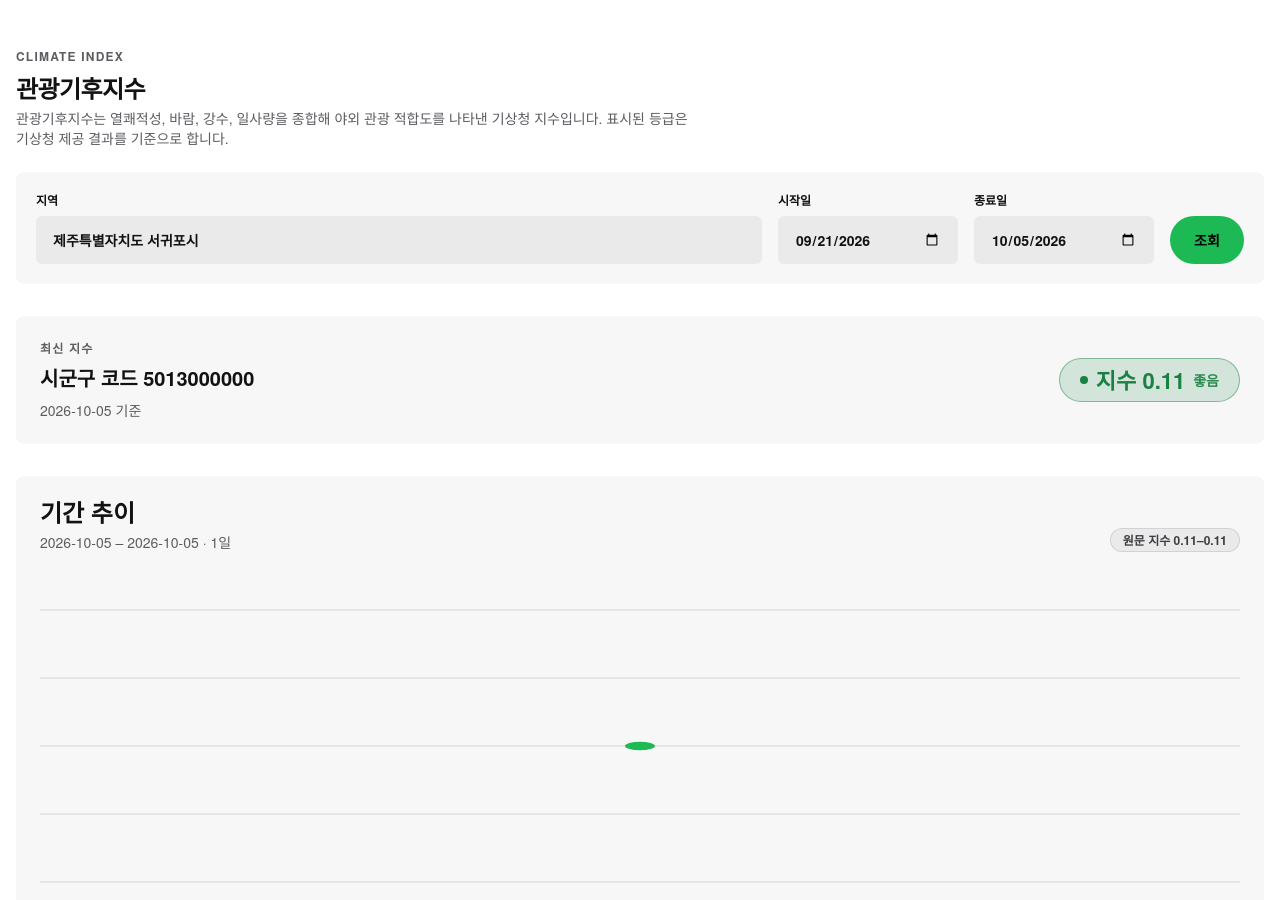
Test: ClimatePage › 잘못된 지역 코드는 API 요청 전에 안내한다
The image size is (1280, 900).
Replace the text in the dropdown labelled "지역" with "123" at (399, 240), box [36,216,762,264]
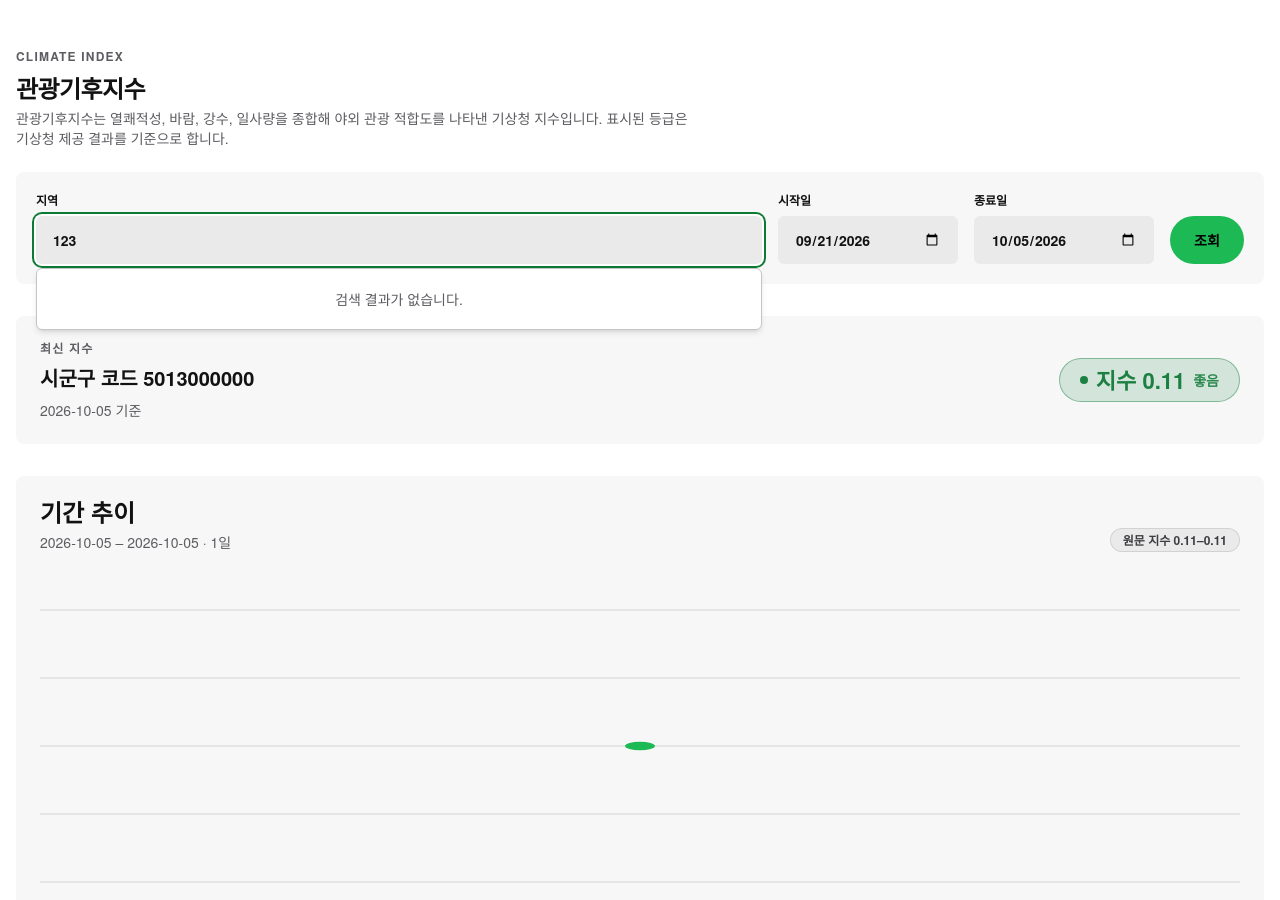
Click the button "조회".
click(1207, 240)  # box [1170,216,1244,264]
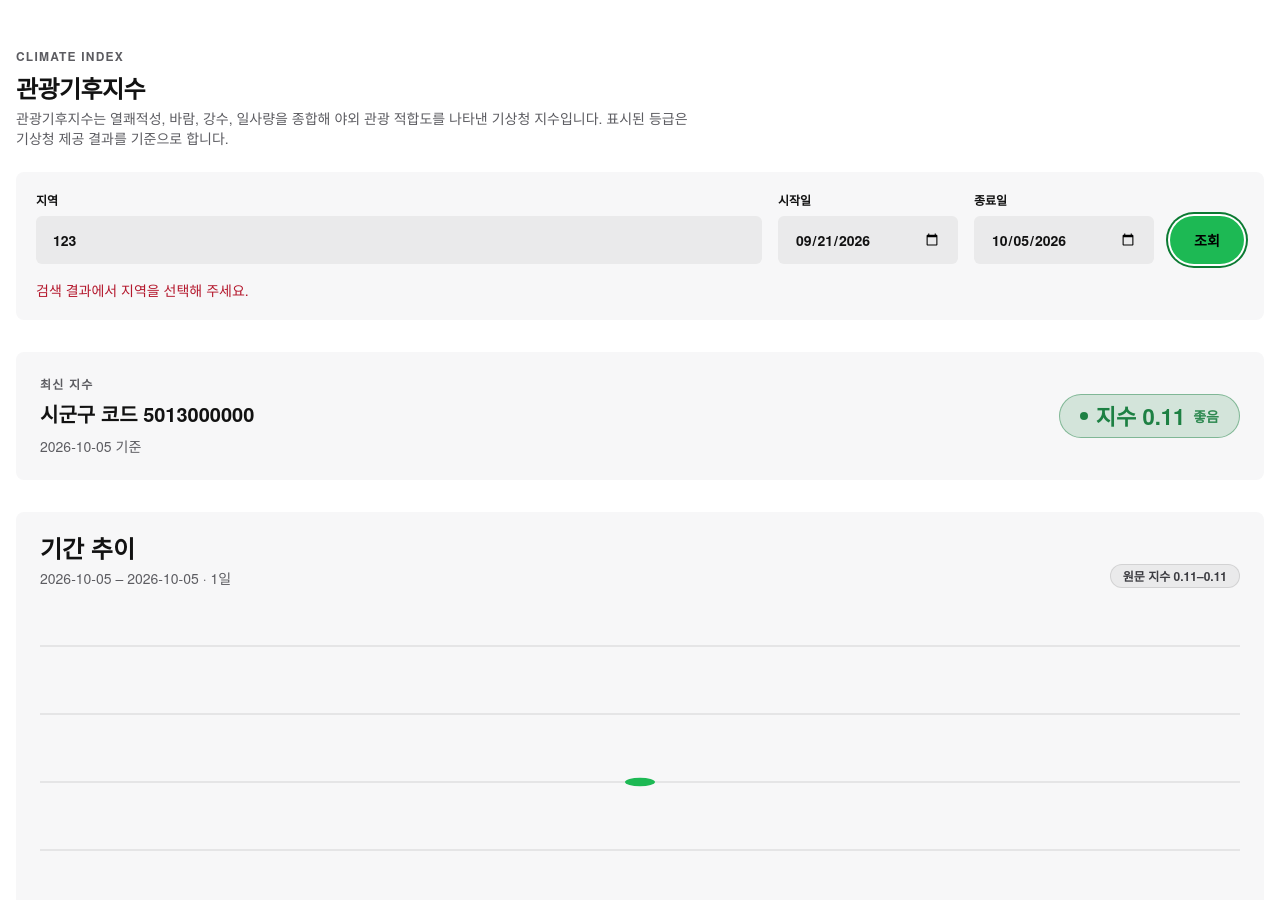
Expected: the message reads "검색 결과에서 지역을 선택해 주세요.", [36,280,249,300]
